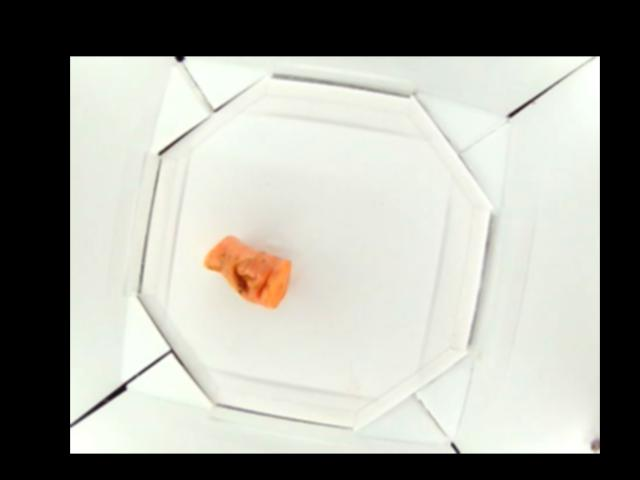Carrot: (205, 235, 291, 307)
